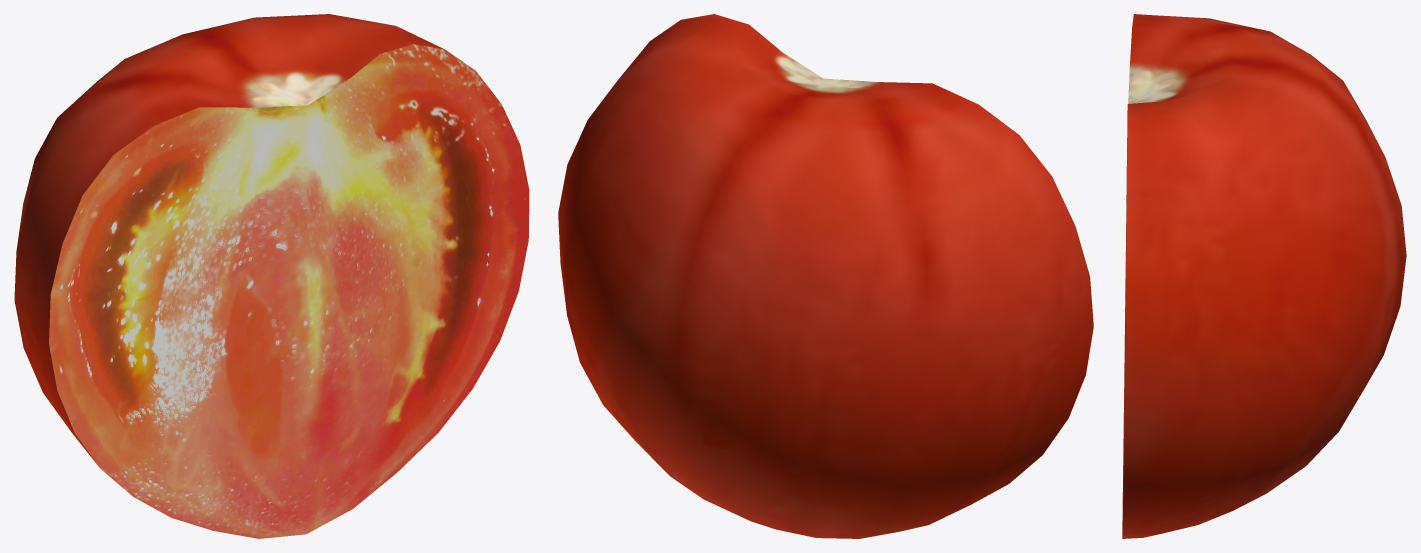
The model's file is uploads_files_5545752_tomato_oshinchan_model_cut_v.20240922.0.fbx.
The picture shows the model from 3 angles, left to right: view 1: azimuth 30°, elevation 25°; view 2: azimuth 150°, elevation 25°; view 3: azimuth 270°, elevation 25°; orthographic projection. The views are drawn at different scales.
Parts seen in each view (by area): view 1: tomato_cut_01; view 2: tomato_cut_01; view 3: tomato_cut_01.
Boxes of the visible parts, x1=… form: tomato_cut_01: x1=14, y1=14, x2=529, y2=538; tomato_cut_01: x1=558, y1=14, x2=1093, y2=538; tomato_cut_01: x1=1122, y1=14, x2=1406, y2=538.
Size of the model in its own units: 0.0759 by 0.0698 by 0.0386.
2 materials, 2 textured.
